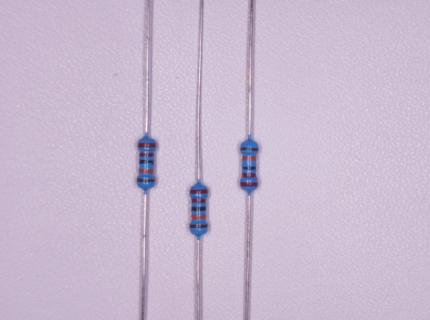Black band: (139, 160, 154, 165), (191, 207, 206, 211), (242, 166, 255, 170)
Brown band: (190, 224, 208, 229), (137, 178, 155, 182), (241, 147, 259, 151)
Orange band: (192, 214, 206, 220), (243, 156, 257, 161), (140, 169, 153, 173)
Red band: (190, 189, 208, 194), (139, 142, 156, 147), (192, 198, 206, 204), (241, 183, 258, 187), (242, 173, 257, 177), (140, 153, 154, 157)
